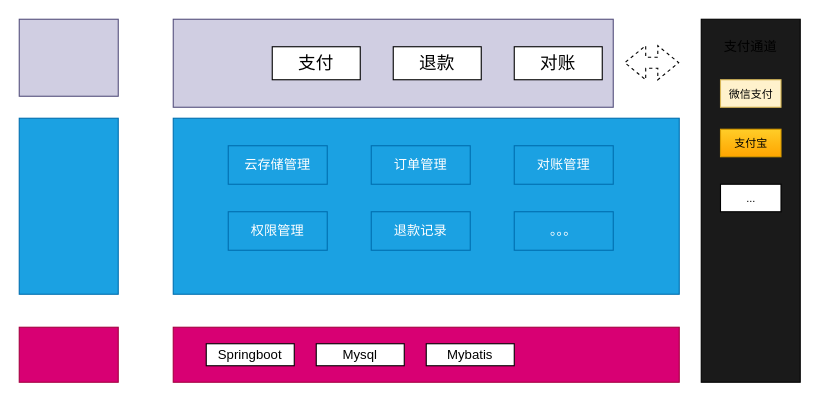
The diagram is 820 pixels wide and 403 high, and some of its shapes have lost their labels. Each missing label, with the box of its shape:
业务 架构: (18, 326, 118, 382)
支付 能力: (18, 18, 118, 96)
支付能力: (172, 18, 613, 107)
管理 后台: (18, 117, 118, 294)
